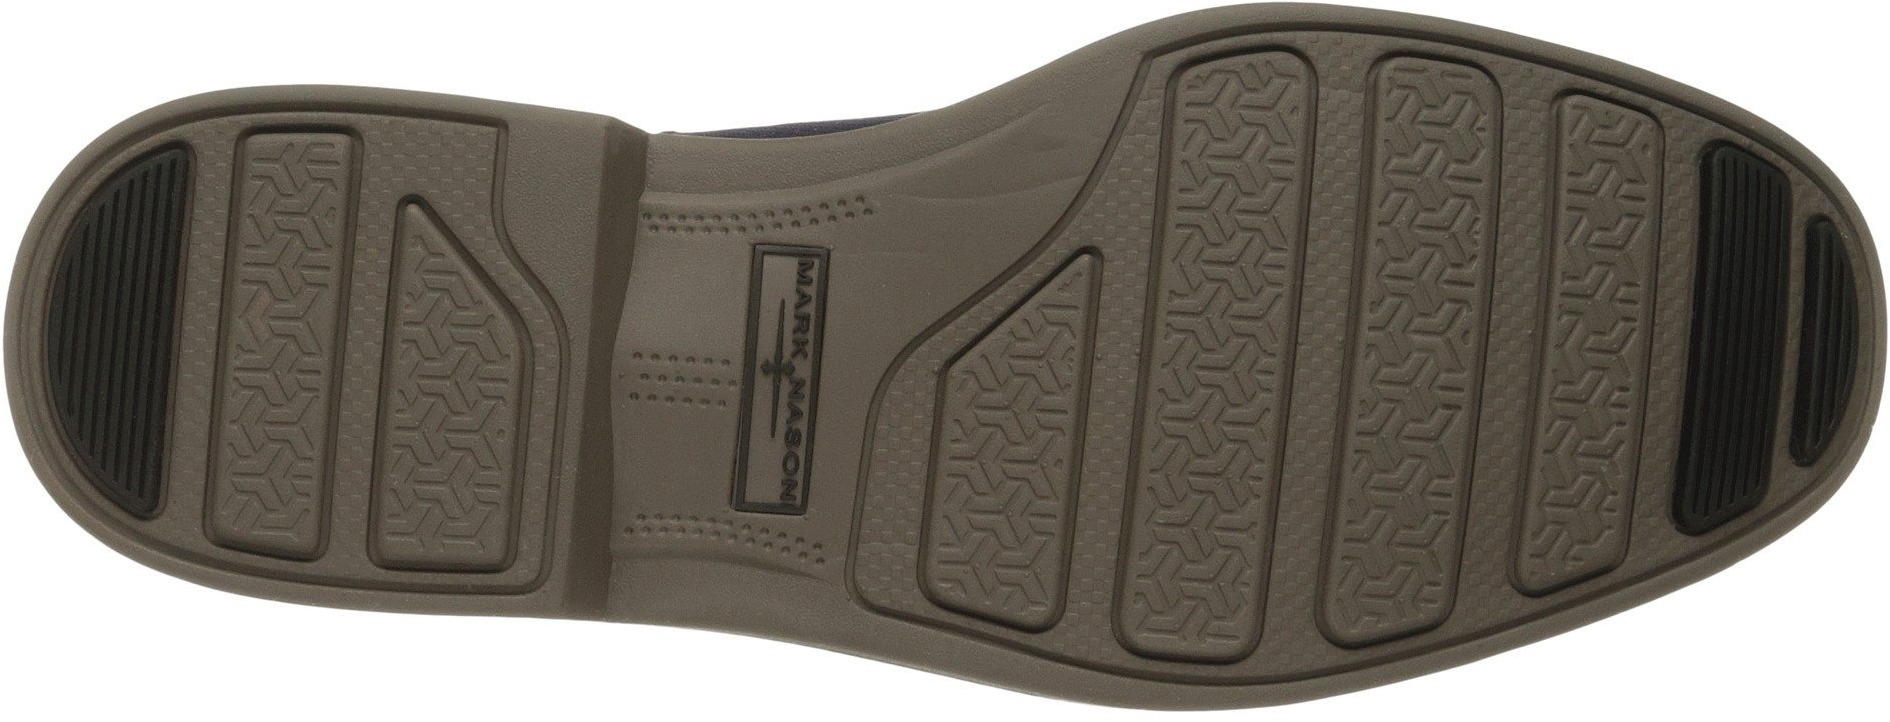other: (47, 260, 175, 385), (626, 328, 739, 432)
quad: (1137, 36, 1536, 403), (888, 450, 1100, 645), (356, 415, 534, 585), (216, 116, 375, 268), (1657, 399, 1792, 533), (1675, 140, 1804, 280)
text: (765, 451, 818, 510), (771, 372, 824, 425), (779, 259, 824, 311)
